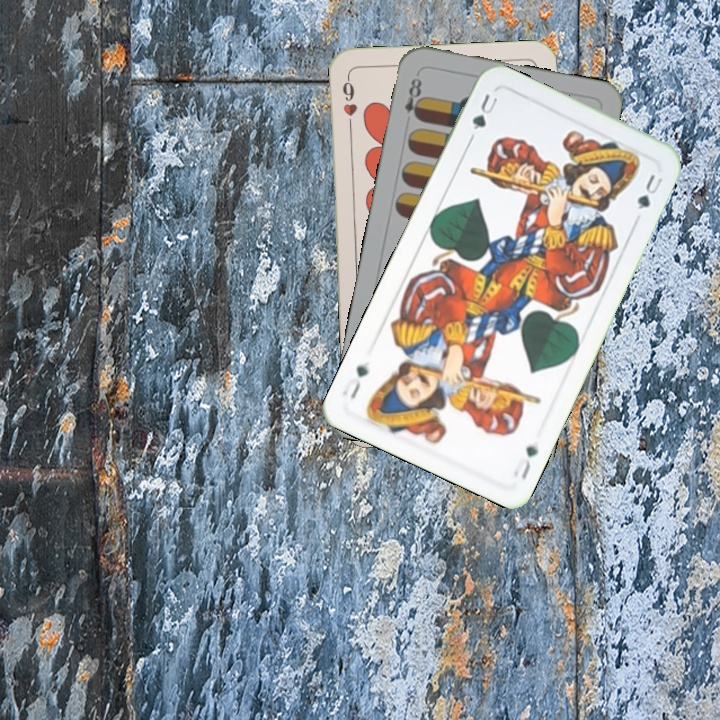E8: (400, 69, 426, 123)
GU: (468, 90, 500, 133), (509, 441, 541, 482)
H9: (338, 72, 360, 132)
